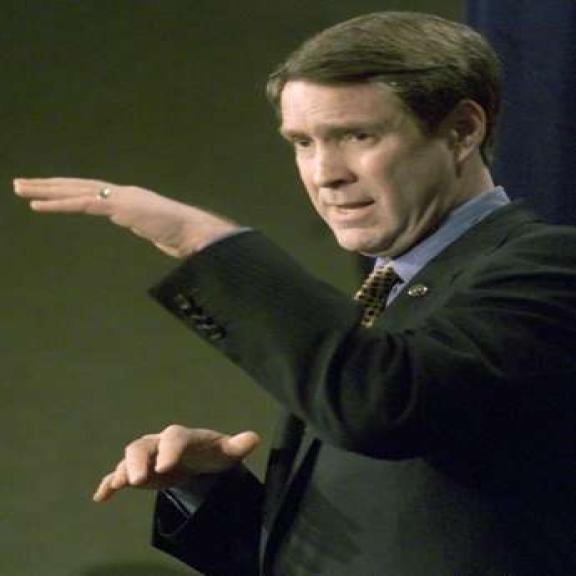face: (285, 69, 489, 260)
